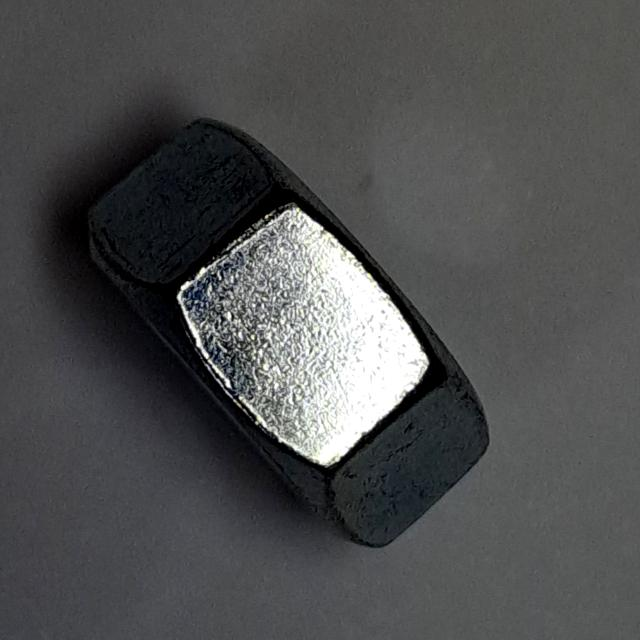Side_Excellent: (77, 109, 511, 556)
